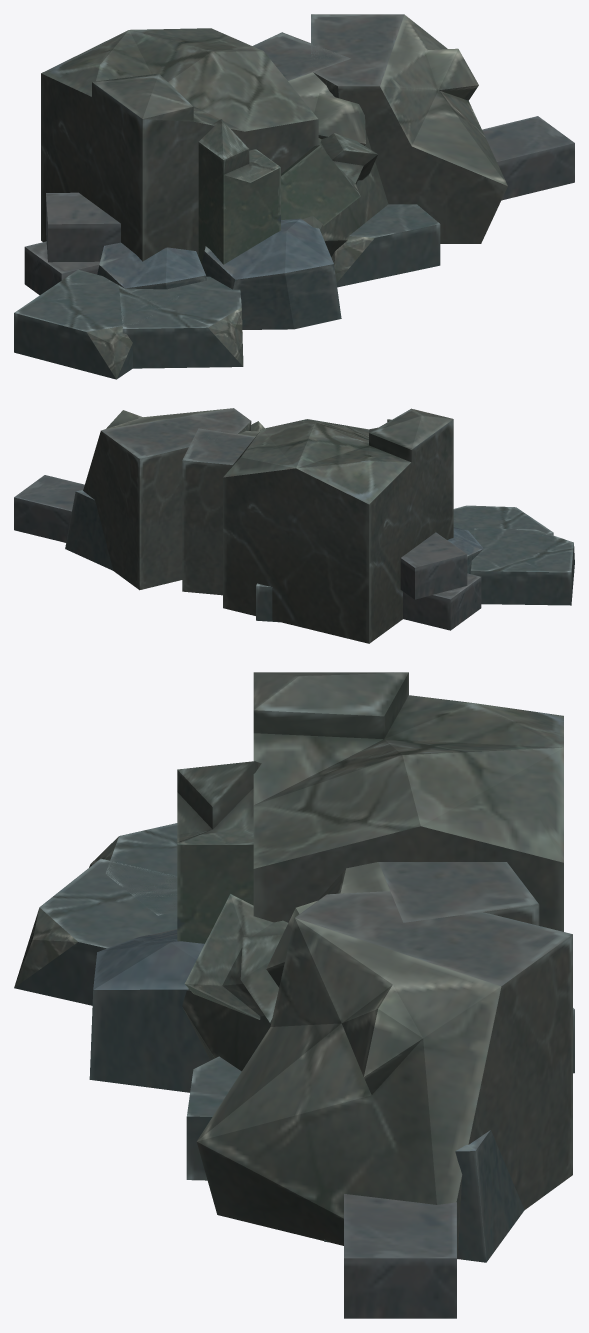
File: shi_dui_001.FBX
The picture shows the model from 3 angles, top to bottom: view 1: azimuth 30°, elevation 25°; view 2: azimuth 150°, elevation 25°; view 3: azimuth 270°, elevation 25°; orthographic projection. The views are drawn at different scales.
Parts seen in each view (by area): view 1: shi_dui_001_a02, shi_dui_001_a03, shi_dui_001_a01; view 2: shi_dui_001_a02, shi_dui_001_a03, shi_dui_001_a01; view 3: shi_dui_001_a02, shi_dui_001_a03, shi_dui_001_a01.
Boxes of the visible parts, box(x1,y1,x2,y2) form: shi_dui_001_a02: box(41, 14, 507, 368); shi_dui_001_a03: box(14, 32, 388, 379); shi_dui_001_a01: box(97, 116, 574, 289); shi_dui_001_a02: box(83, 408, 553, 643); shi_dui_001_a03: box(65, 419, 574, 630); shi_dui_001_a01: box(14, 475, 483, 622); shi_dui_001_a02: box(14, 672, 572, 1259); shi_dui_001_a03: box(89, 761, 539, 1262); shi_dui_001_a01: box(184, 894, 574, 1318).
Size of the model in its own units: 495 by 167 by 263.
1 material, 1 textured.
